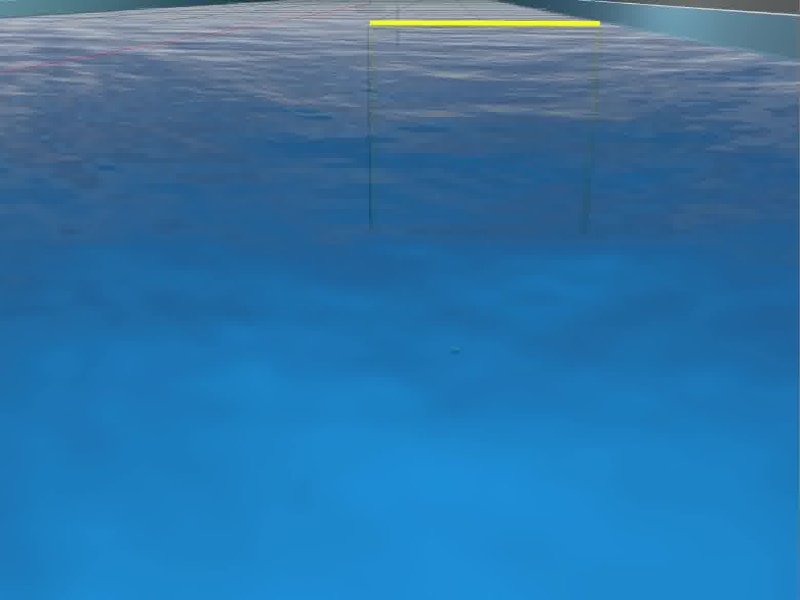gate: (364, 17, 602, 236)
